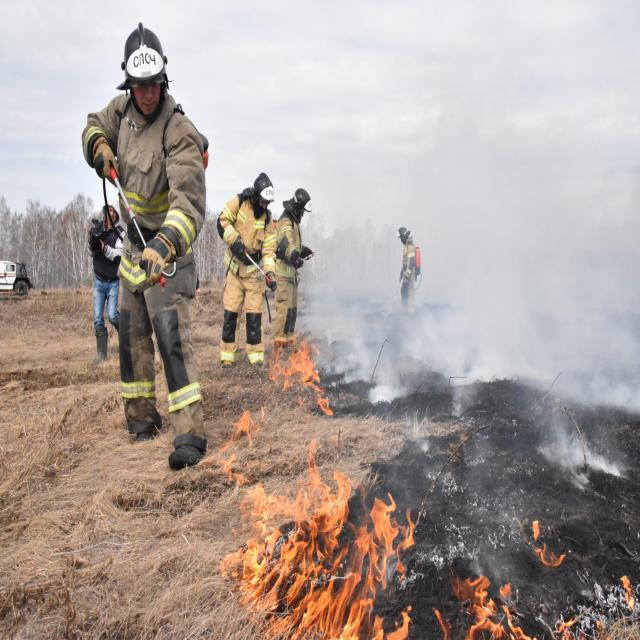Fire: (206, 404, 414, 640), (436, 564, 530, 640), (268, 335, 332, 415), (532, 516, 566, 568)
Smoke: (297, 0, 640, 484)
